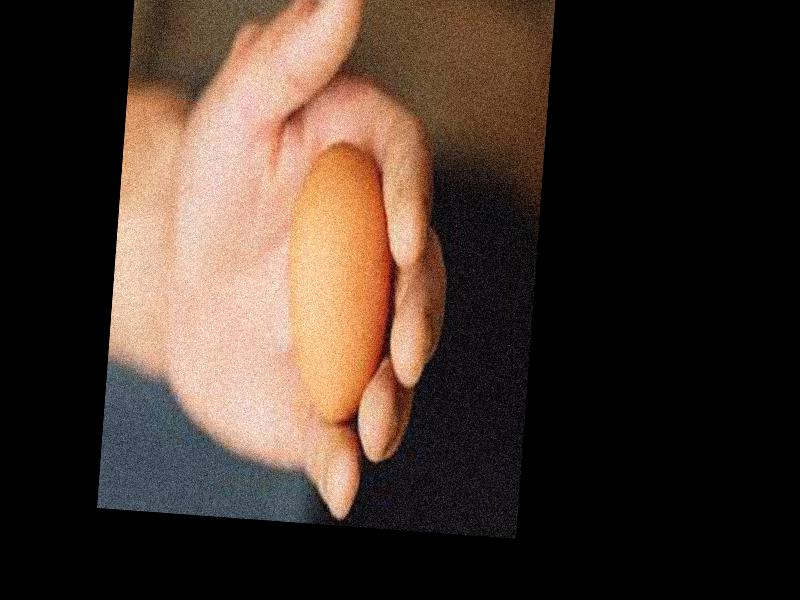Eggs: (278, 142, 397, 427)
